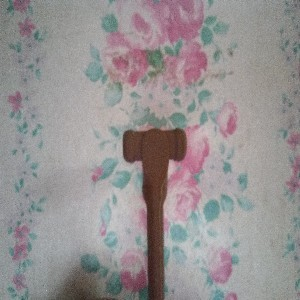palu: (122, 126, 188, 300)
